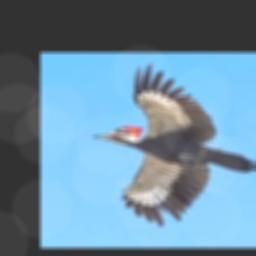Woodpecker: (92, 60, 256, 226)
